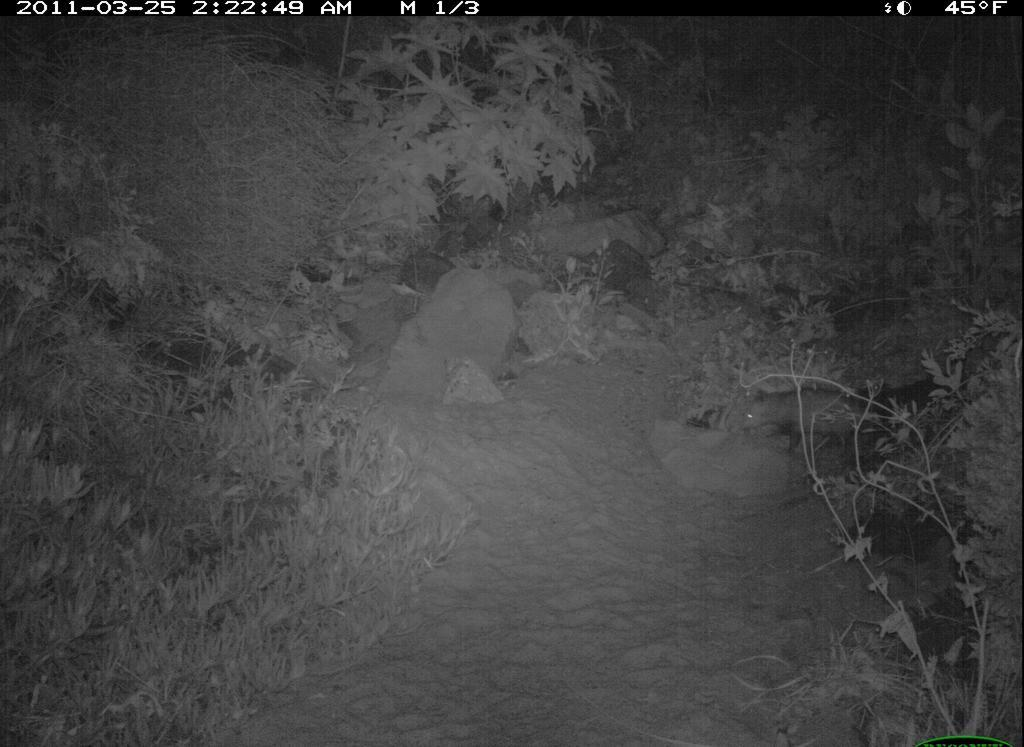opossum: (735, 373, 902, 464)
